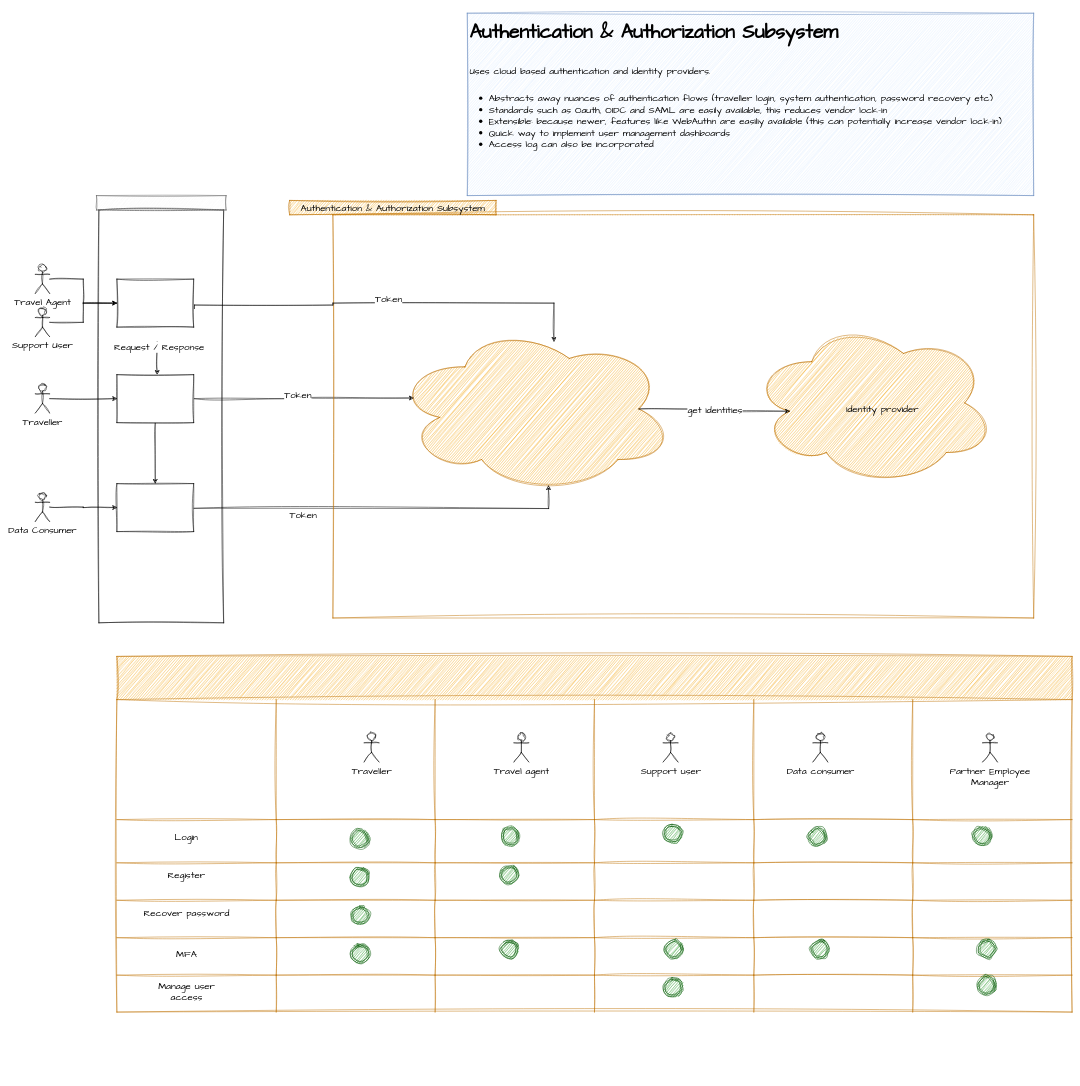
The diagram is 1080 pixels wide and 1086 high, and some of its shapes have lost their labels. The shapes that lost their labels are listed below. From the top down, each one's box as (x1, y1, x2, y2) in pixels, then its label:
(96, 195, 226, 210): Road Warrior
(116, 279, 194, 327): Support Subsystem
(116, 374, 194, 423): Trip Management Subsystem
(395, 324, 674, 493): Authorization provider
(116, 483, 194, 532): Reporting & Analytics Subsystem
(116, 656, 1072, 1012): Roles
